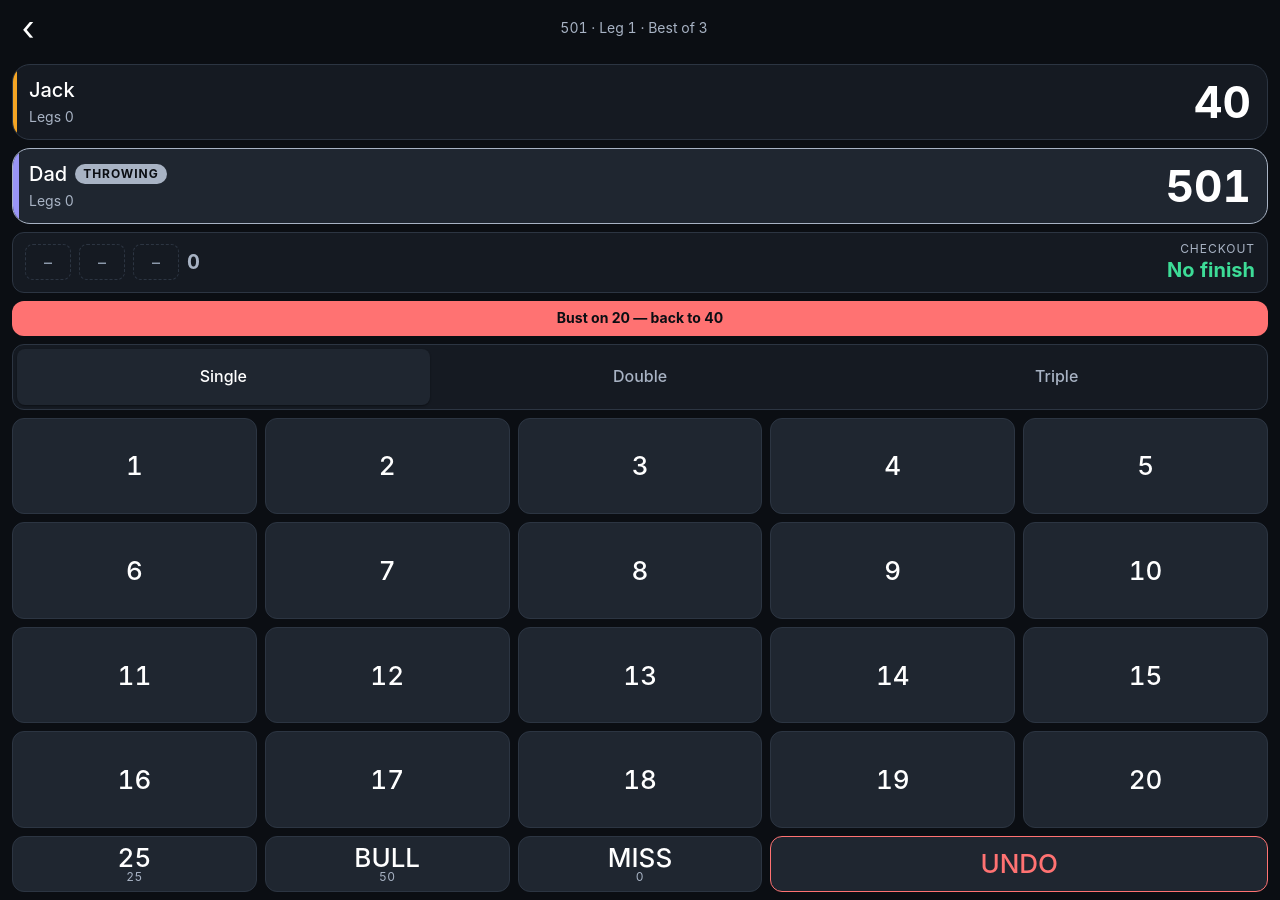
it: the visit strip when the turn passes › brings a busted visit back without its bust when the busting dart is undone
This screenshot has width=1280, height=900.
Click the button "UNDO": (1019, 864) x1=770 y1=836 x2=1268 y2=892
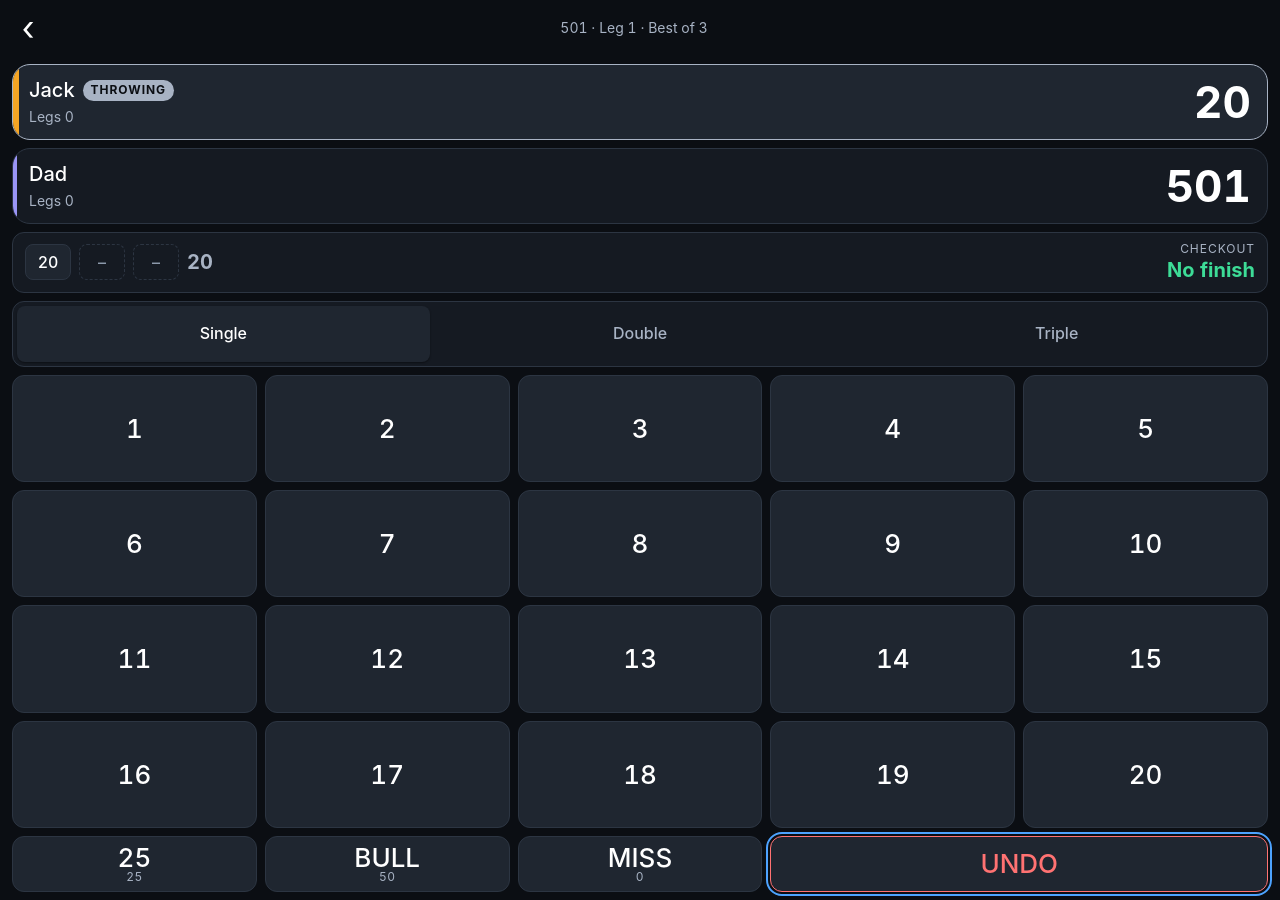
Result: the message "Bust on 20 — back to 40" is gone
